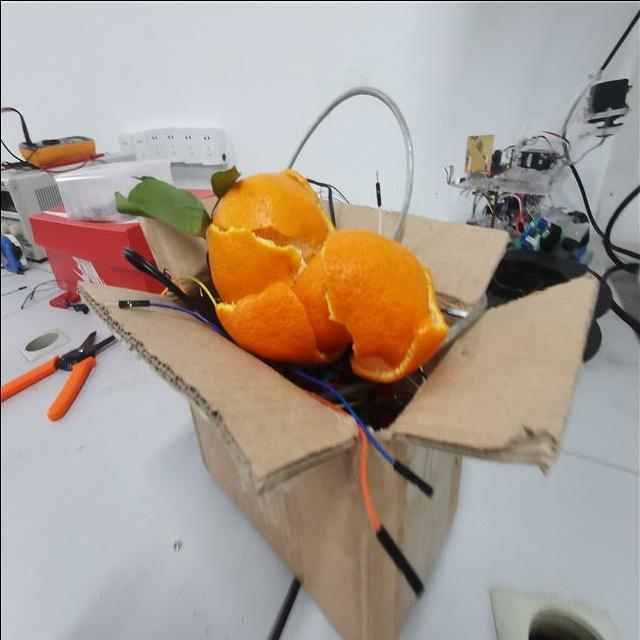orange peel: (205, 169, 451, 378)
